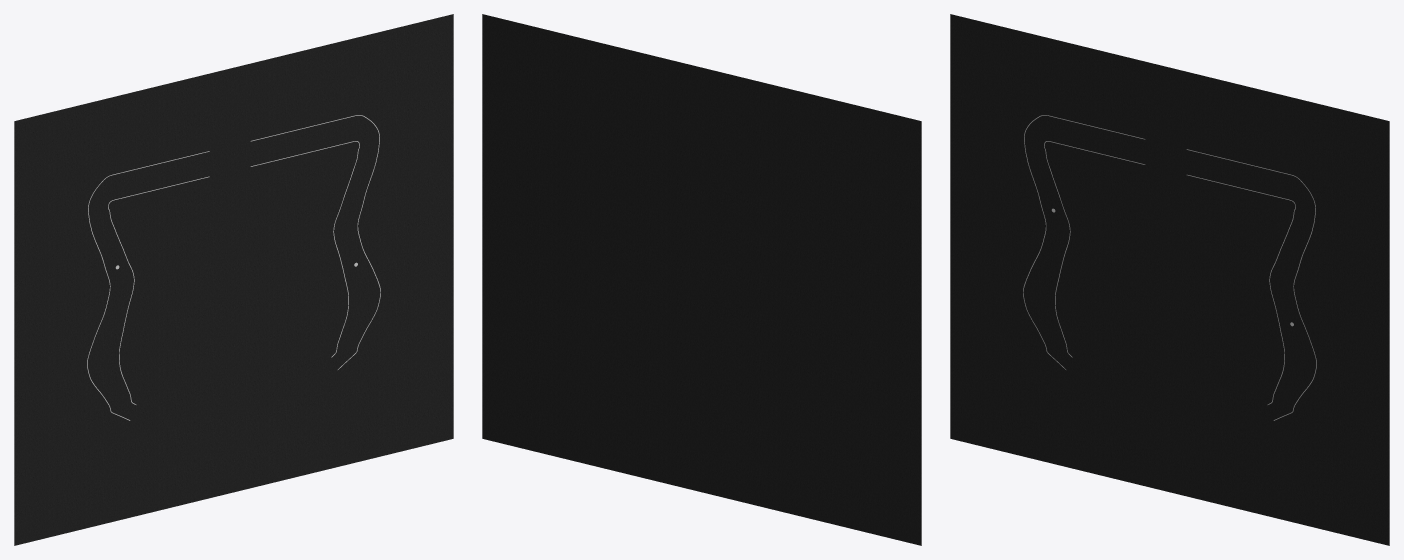
File: course.obj
The picture shows the model from 3 angles, left to right: view 1: azimuth 30°, elevation 25°; view 2: azimuth 150°, elevation 25°; view 3: azimuth 330°, elevation 25°; orthographic projection.
Parts seen in each view (by area): view 1: asphalt_ground; view 2: asphalt_ground; view 3: asphalt_ground.
Part boxes in pixels (box(x1,y1,x2,y2)): asphalt_ground: box(14, 14, 453, 545); asphalt_ground: box(482, 14, 921, 545); asphalt_ground: box(950, 14, 1389, 545).
Bounding box in the file's own units: 71.98 × 66.47 × 0.004.
Materials: 2 (1 with a texture image).
